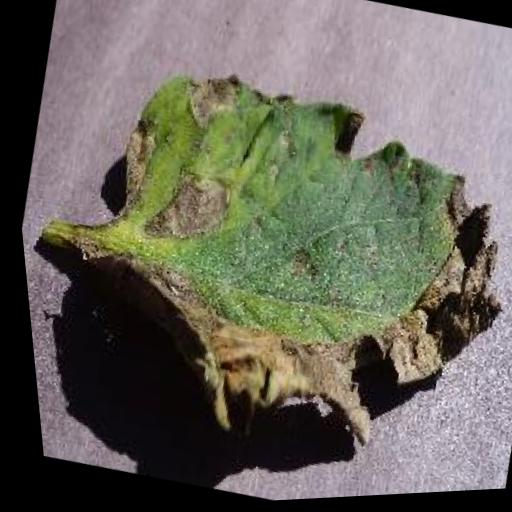Early Blight: (58, 49, 512, 496)
